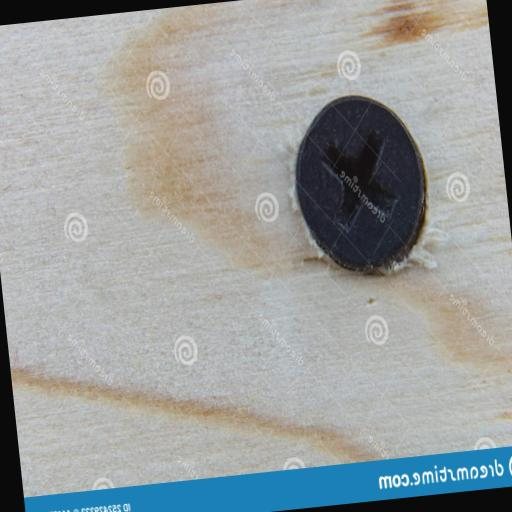Phillips: (284, 82, 438, 282)
